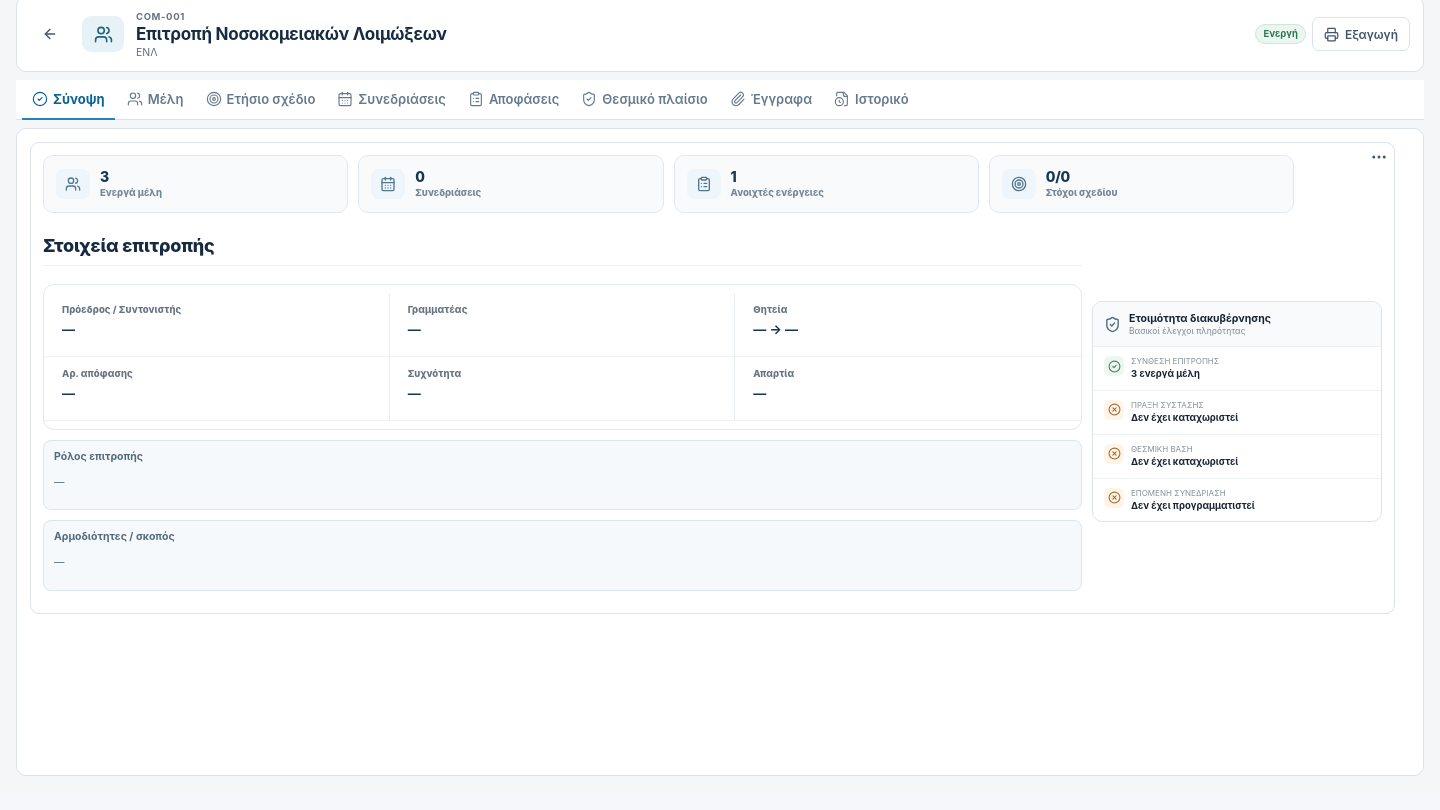
committee record: institutional framework › lets a role with create-committee rights edit the framework
This screenshot has width=1440, height=810.
Click the tab "Θεσμικό πλαίσιο" at (645, 100), box [571,80,718,120]
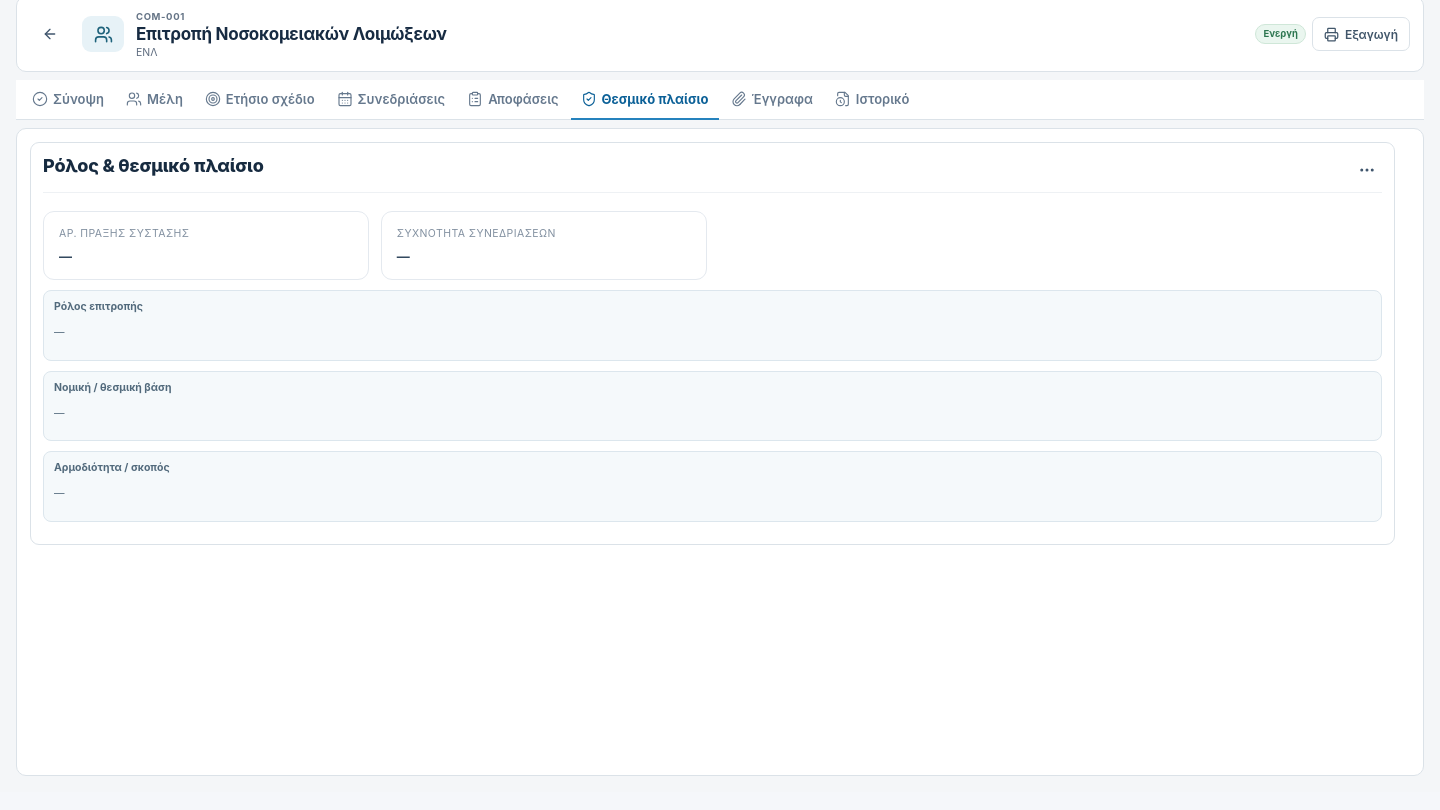
Click the button named "Ενέργειες" at (1367, 170), box [1352,155,1382,185]
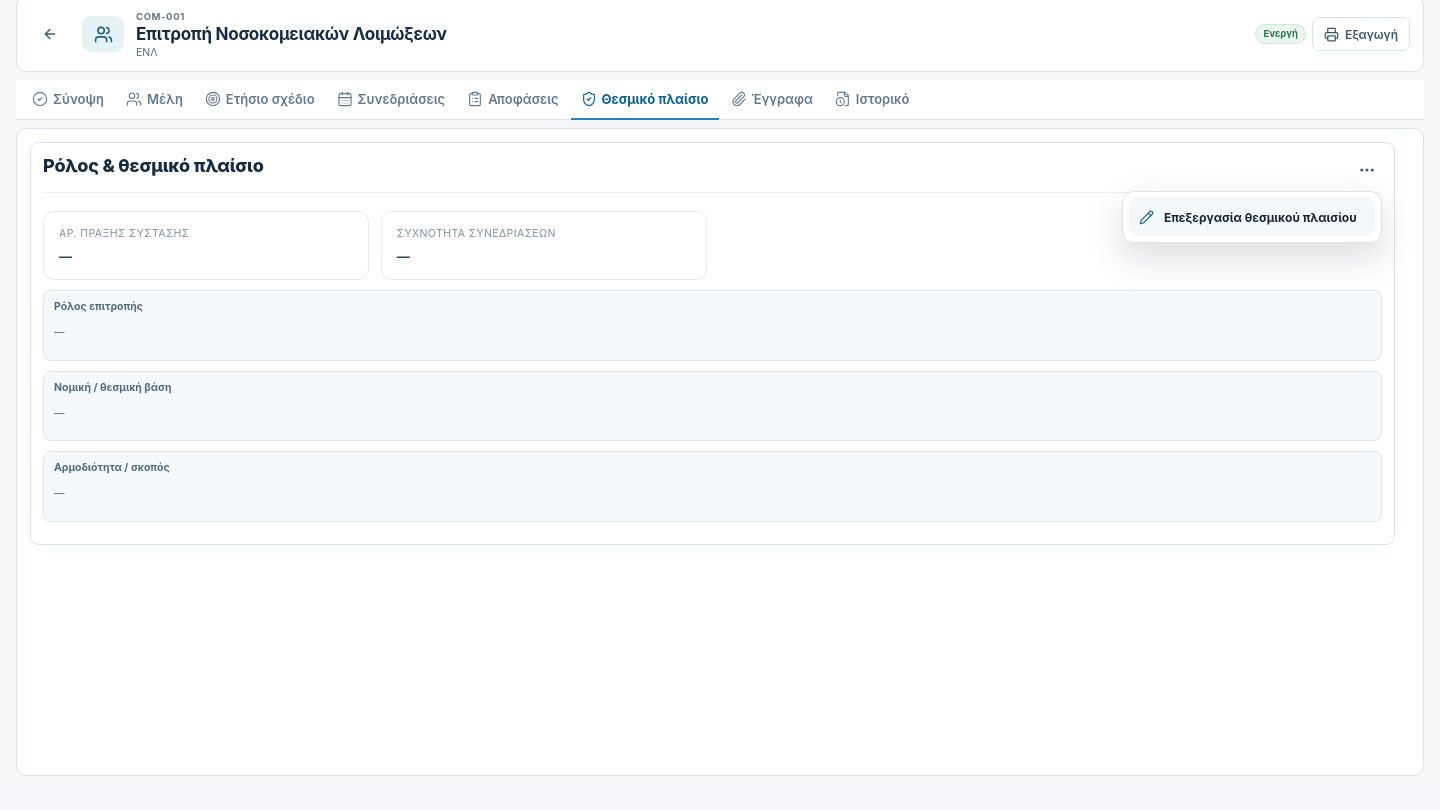
Expected: the menu item "Επεξεργασία θεσμικού πλαισίου" is shown, [1129,198,1375,236]
